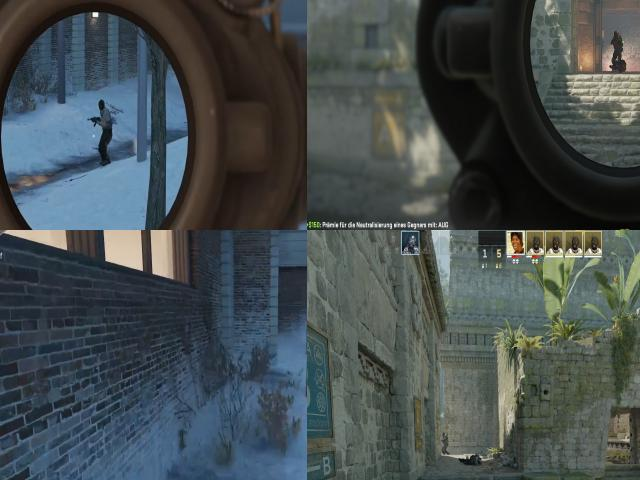CT: (608, 24, 626, 73), (441, 426, 449, 458)
CT-Head: (612, 28, 620, 40), (441, 428, 448, 436)
Dead: (612, 58, 628, 72)
T: (95, 95, 116, 134)
T-Head: (96, 96, 110, 114)
